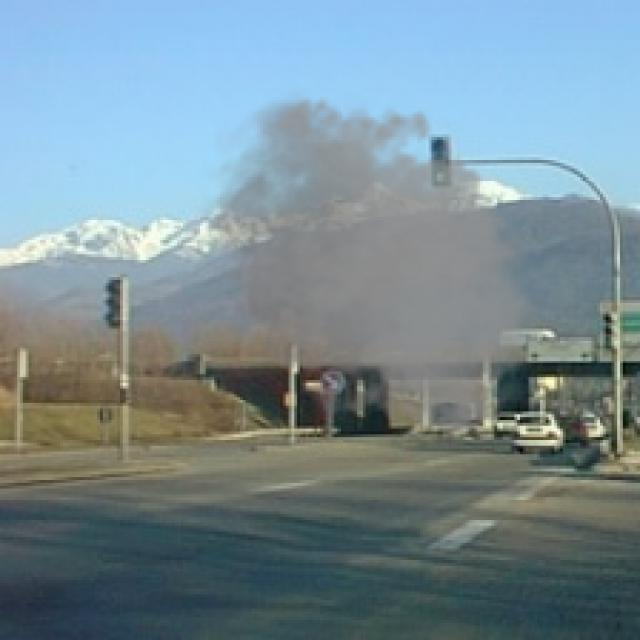smoke: (188, 86, 548, 440)
